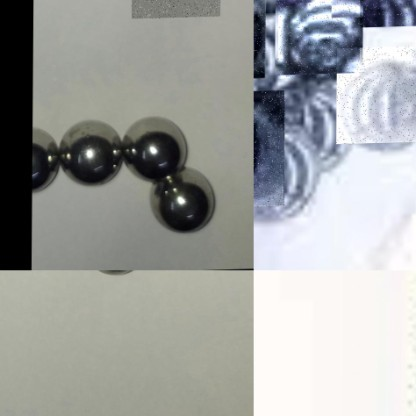ironball: (334, 54, 414, 152), (274, 75, 347, 171), (277, 0, 359, 78), (153, 163, 218, 236), (269, 118, 315, 221), (117, 115, 189, 178), (58, 120, 118, 184), (253, 90, 284, 208), (29, 120, 56, 194), (352, 0, 415, 28)
